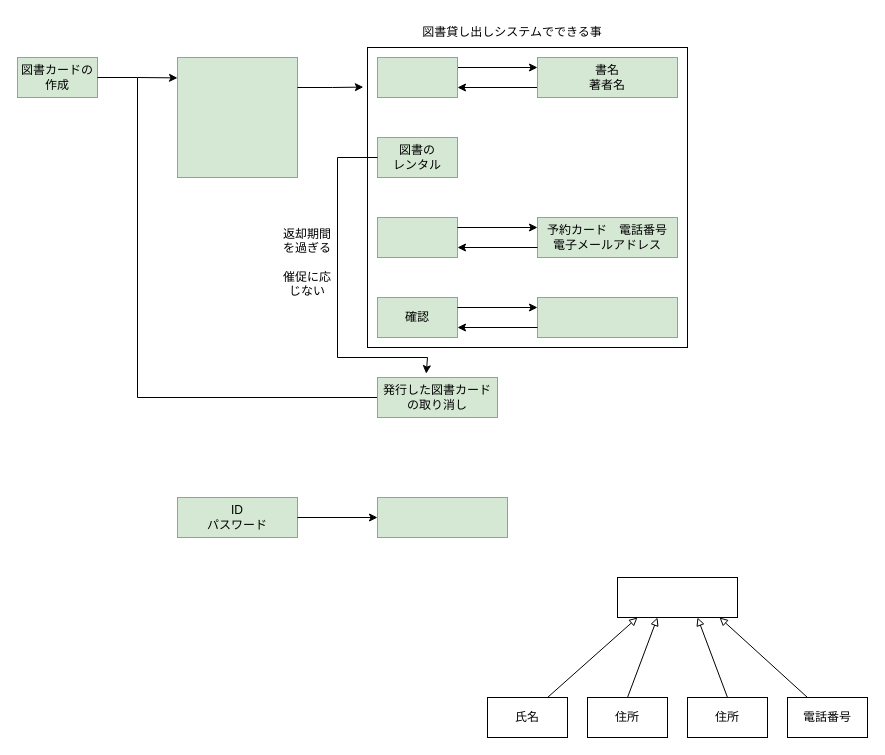
The diagram is 885 pixels wide and 755 high, and some of its shapes have lost their labels. Here are the shapes that lost their labels. From the top down, the box of each, then its label:
(376, 56, 458, 98): 検索
(176, 56, 298, 178): 氏名 住所 電話番号 電子メールアドレス
(376, 216, 458, 258): 連絡
(536, 296, 678, 338): 残りの借りられる本数 書名 著者名 貸出期間
(376, 496, 508, 538): ログイン
(616, 576, 738, 618): 図書カード
